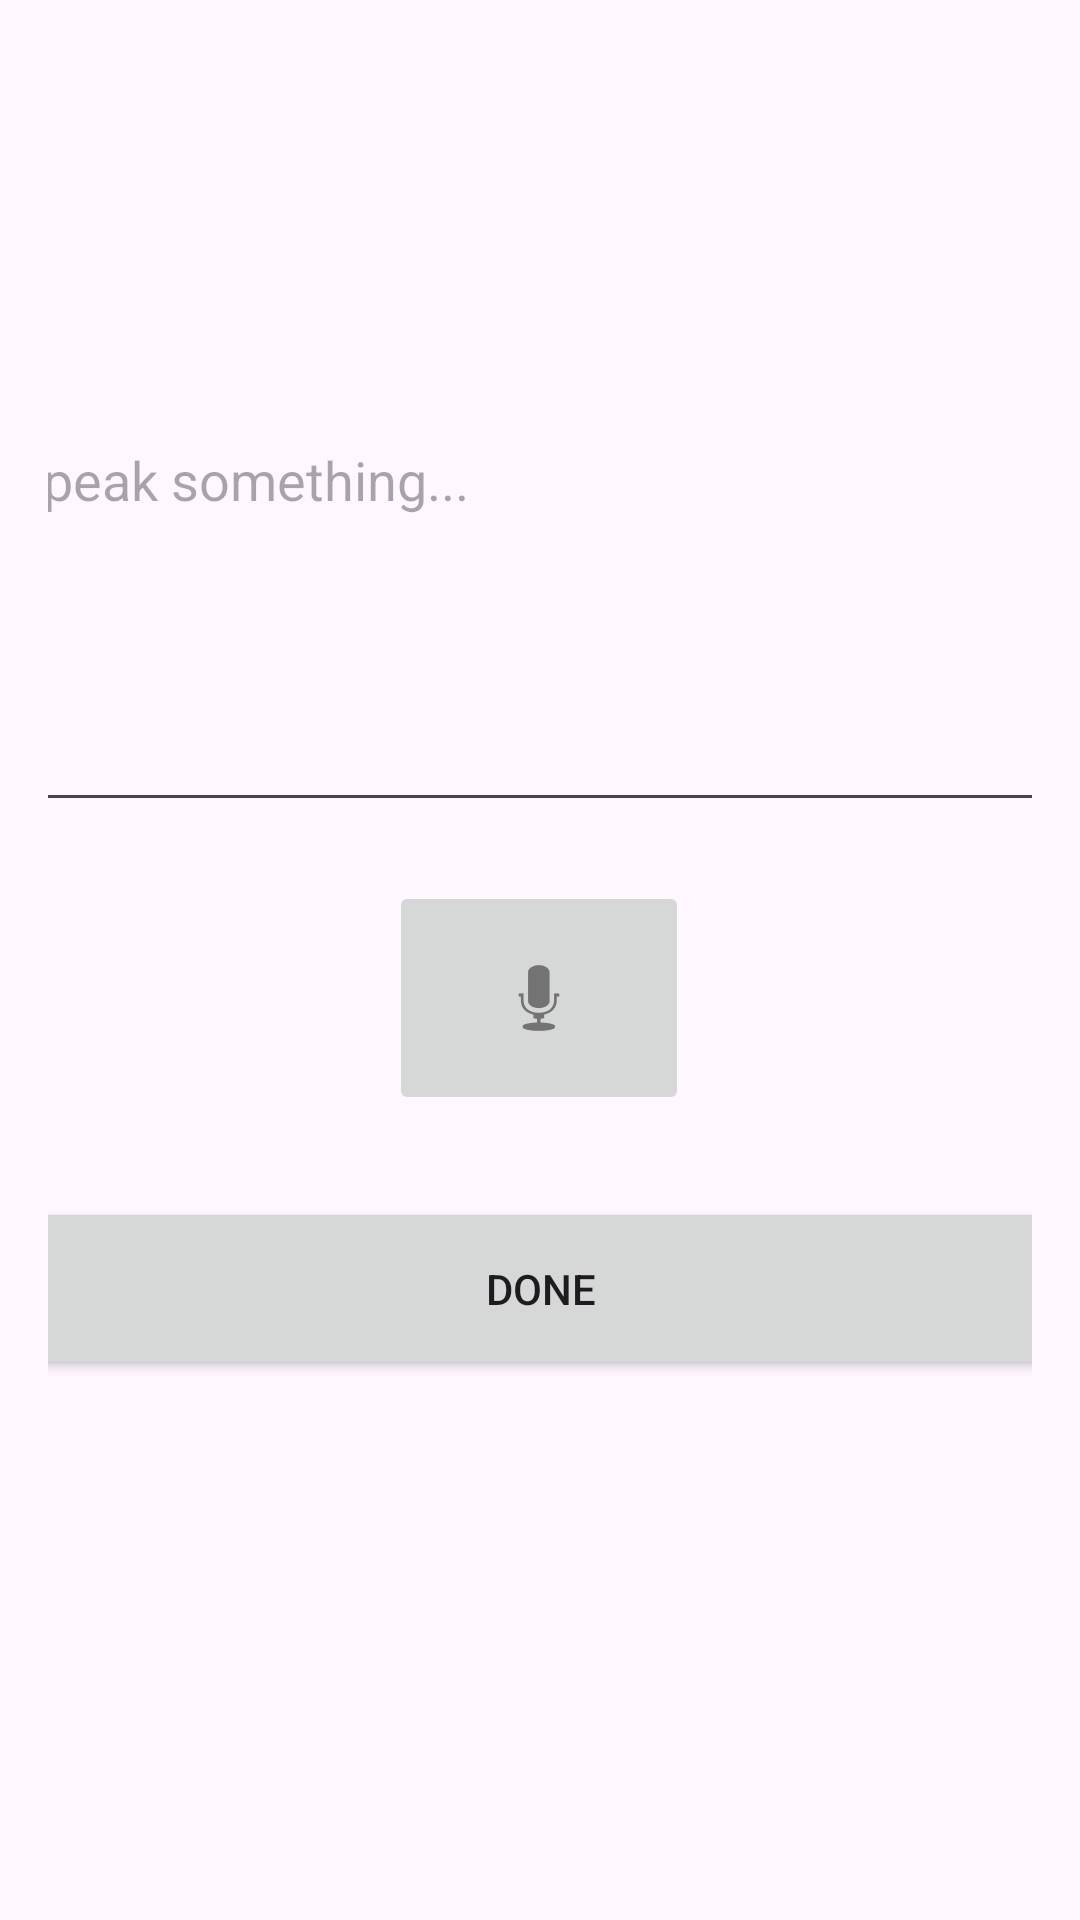

Locate icon controls on the screen. Image size 1080x1920, boxes as Rect(x1, y1, x2, y2).
Start Recording: Rect(401, 899, 677, 1097)
